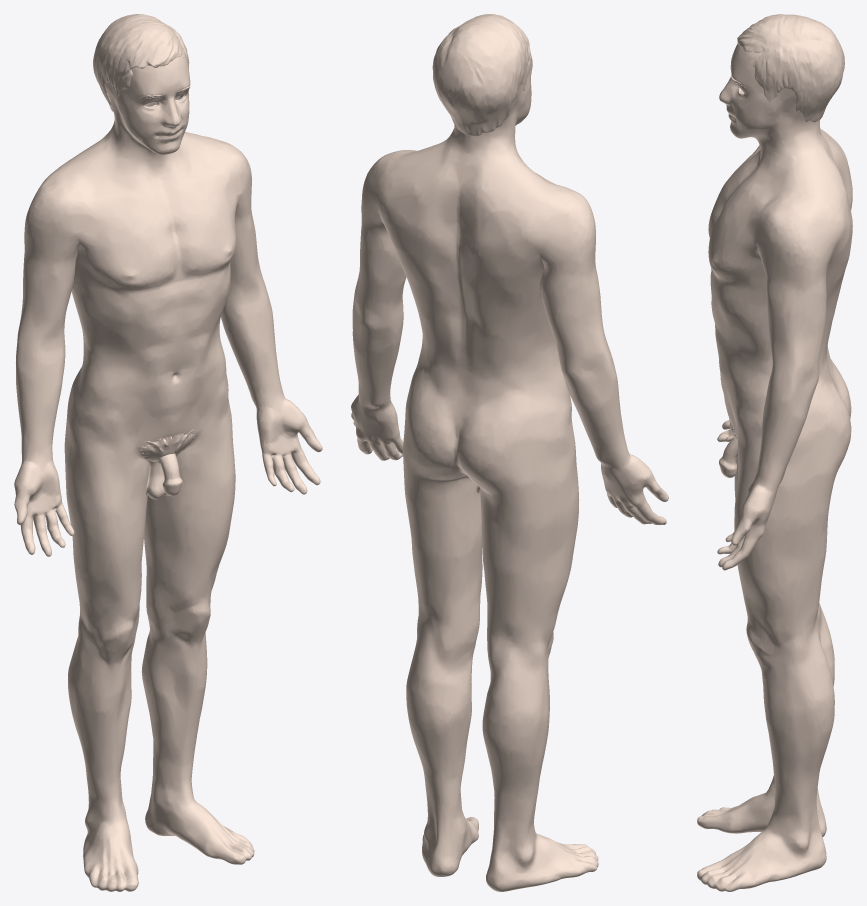
The model's file is pelle.glb.
3 views of the same model, side by side, from view 1: azimuth 30°, elevation 25°; view 2: azimuth 150°, elevation 25°; view 3: azimuth 270°, elevation 25° (orthographic). The views are drawn at different scales.
Parts seen in each view (by area): view 1: FJ2810, FJ2813, FJ2815; view 2: FJ2810, FJ2813; view 3: FJ2810, FJ2813.
Boxes of the visible parts, x1=… form: FJ2810: x1=14, y1=47, x2=322, y2=891; FJ2813: x1=93, y1=14, x2=189, y2=111; FJ2815: x1=140, y1=429, x2=195, y2=461; FJ2810: x1=351, y1=53, x2=668, y2=891; FJ2813: x1=432, y1=14, x2=530, y2=135; FJ2810: x1=697, y1=44, x2=852, y2=891; FJ2813: x1=737, y1=14, x2=844, y2=122.
Size of the model in its own units: 0.6669 by 1.73 by 0.292.
